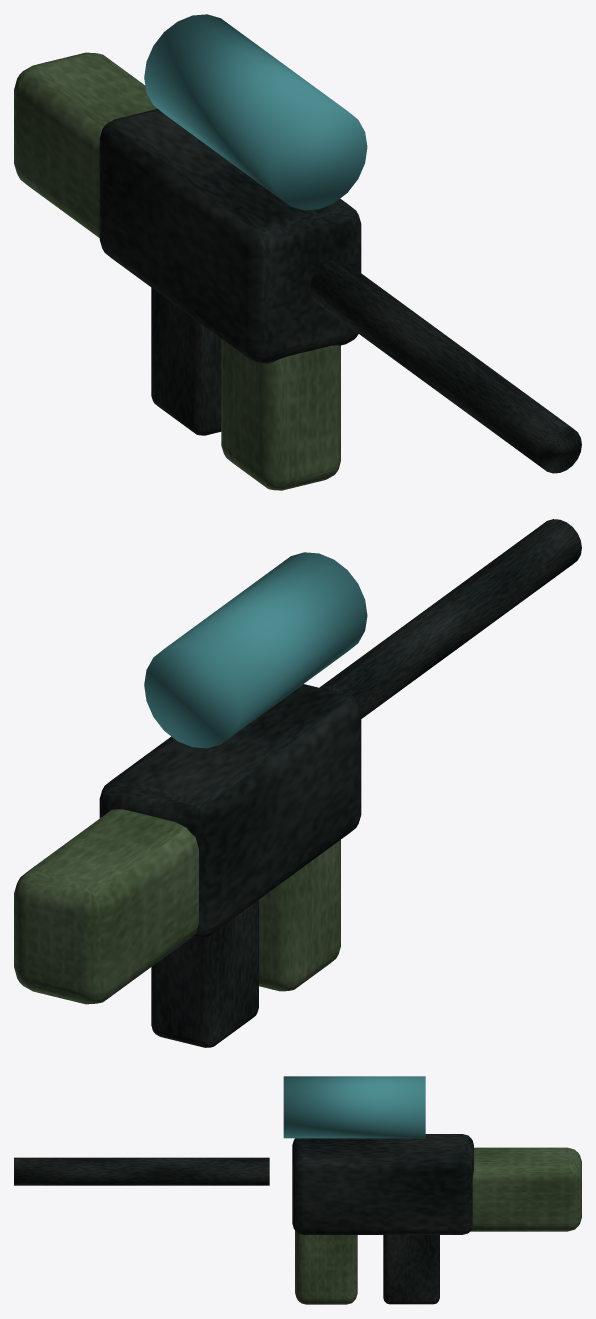
File: weapon_laser.glb
3 renders of one model, top to bottom at view 1: azimuth 30°, elevation 25°; view 2: azimuth 150°, elevation 25°; view 3: azimuth 270°, elevation 25°, orthographic. The views are drawn at different scales.
Parts seen in each view (by area): view 1: Receiver.008, Optic.002, Barrel.008, Magazine.008, Stock.006, Grip.006; view 2: Receiver.008, Stock.006, Optic.002, Barrel.008, Grip.006, Magazine.008; view 3: Receiver.008, Stock.006, Optic.002, Barrel.008, Magazine.008, Grip.006.
Boxes of the visible parts, <box> form: Receiver.008: <box>99,109,361,363</box>; Optic.002: <box>144,14,367,210</box>; Barrel.008: <box>310,259,581,473</box>; Magazine.008: <box>221,339,340,490</box>; Stock.006: <box>14,52,157,237</box>; Grip.006: <box>151,287,221,435</box>; Receiver.008: <box>99,684,361,938</box>; Stock.006: <box>14,809,198,1004</box>; Optic.002: <box>144,552,367,748</box>; Barrel.008: <box>319,519,581,718</box>; Grip.006: <box>151,900,258,1047</box>; Magazine.008: <box>259,840,340,991</box>; Receiver.008: <box>292,1134,473,1234</box>; Stock.006: <box>470,1147,581,1231</box>; Optic.002: <box>283,1076,425,1138</box>; Barrel.008: <box>14,1157,269,1185</box>; Magazine.008: <box>295,1231,357,1304</box>; Grip.006: <box>383,1235,439,1304</box>.
Size of the model in its own units: 0.13 by 0.425 by 1.
Materials: 3 (2 with a texture image).
